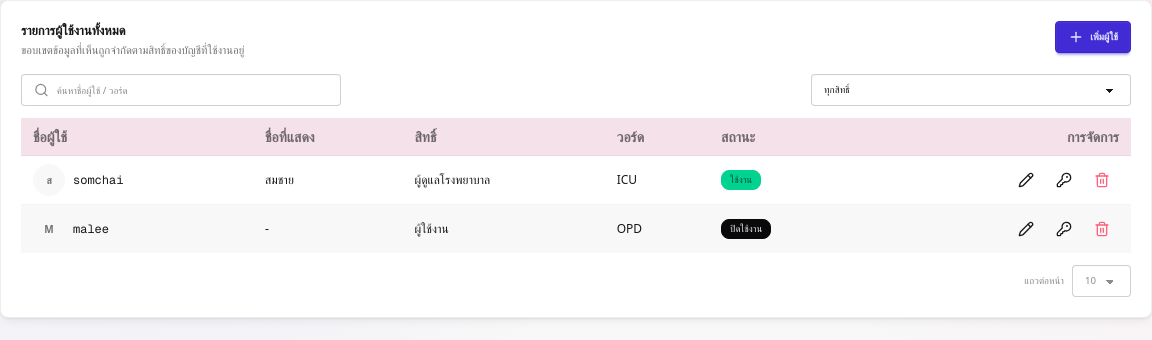
Test: UserList › filters the table by keyword
Expected: the text "somchai" is shown, [73,171,123,189]
Type "malee" into the search field named "ค้นหาผู้ใช้" at point(192, 90), box [57,75,328,105]
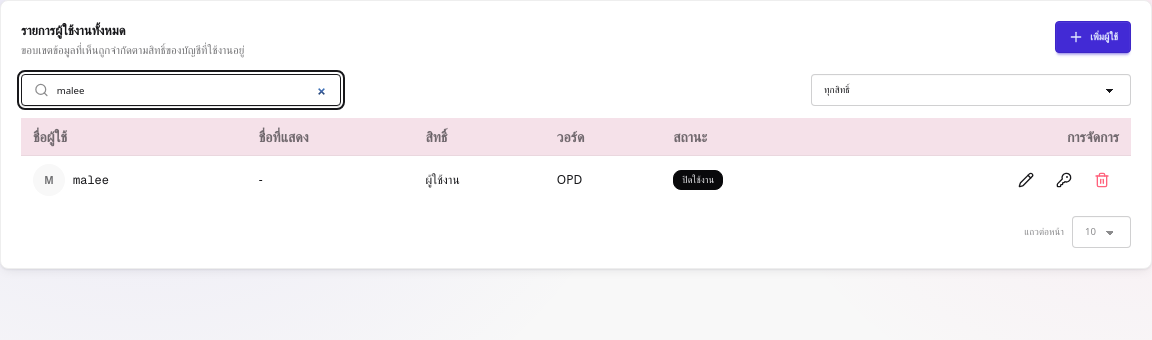
Expected: the text "malee" is shown, [73,171,109,189]
Expected: the text "somchai" is gone
